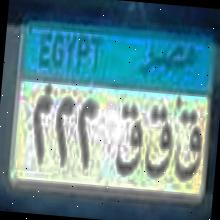2: (72, 94, 102, 170), (50, 96, 76, 168), (29, 94, 54, 164)
qaaf: (173, 108, 205, 178), (144, 107, 174, 178), (116, 104, 146, 174)
